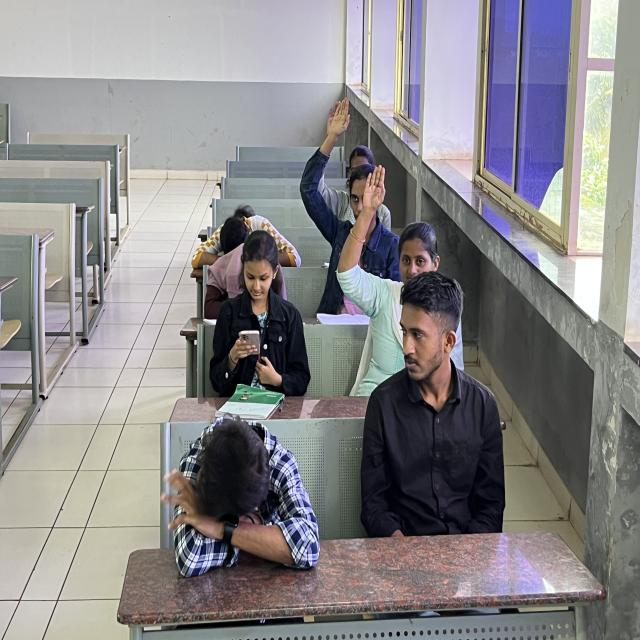Hand Rising: (320, 167, 510, 399), (293, 88, 452, 252)
Sleeping: (152, 393, 323, 600), (176, 241, 326, 325), (181, 183, 314, 268)
Using Phone: (209, 227, 338, 416)
